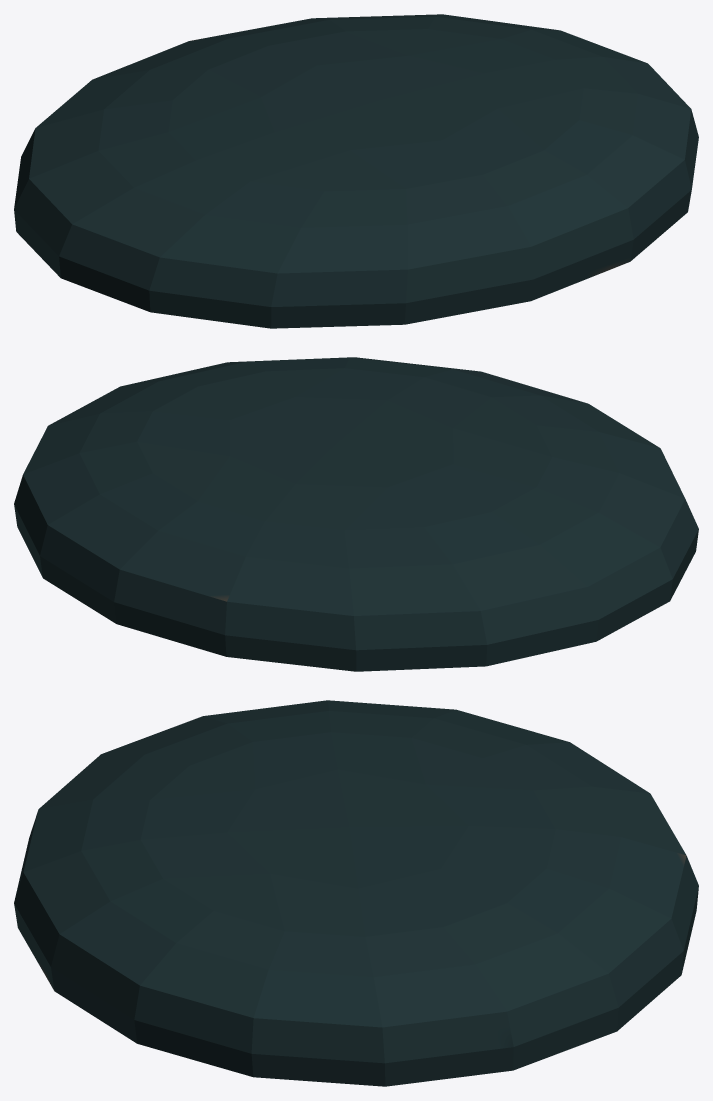
File: piedrita.obj
3 views of the same model, one above another, from view 1: azimuth 30°, elevation 25°; view 2: azimuth 150°, elevation 25°; view 3: azimuth 270°, elevation 25° (orthographic). The views are drawn at different scales.
Parts seen in each view (by area): view 1: frosty_priedita; view 2: frosty_priedita; view 3: frosty_priedita.
Part boxes in pixels (x1,y1,x2,y2): frosty_priedita: (14,14,698,328); frosty_priedita: (14,357,698,671); frosty_priedita: (14,700,698,1086).
Size of the model in its own units: 0.1431 by 0.0231 by 0.1242.
1 material, 1 textured.
